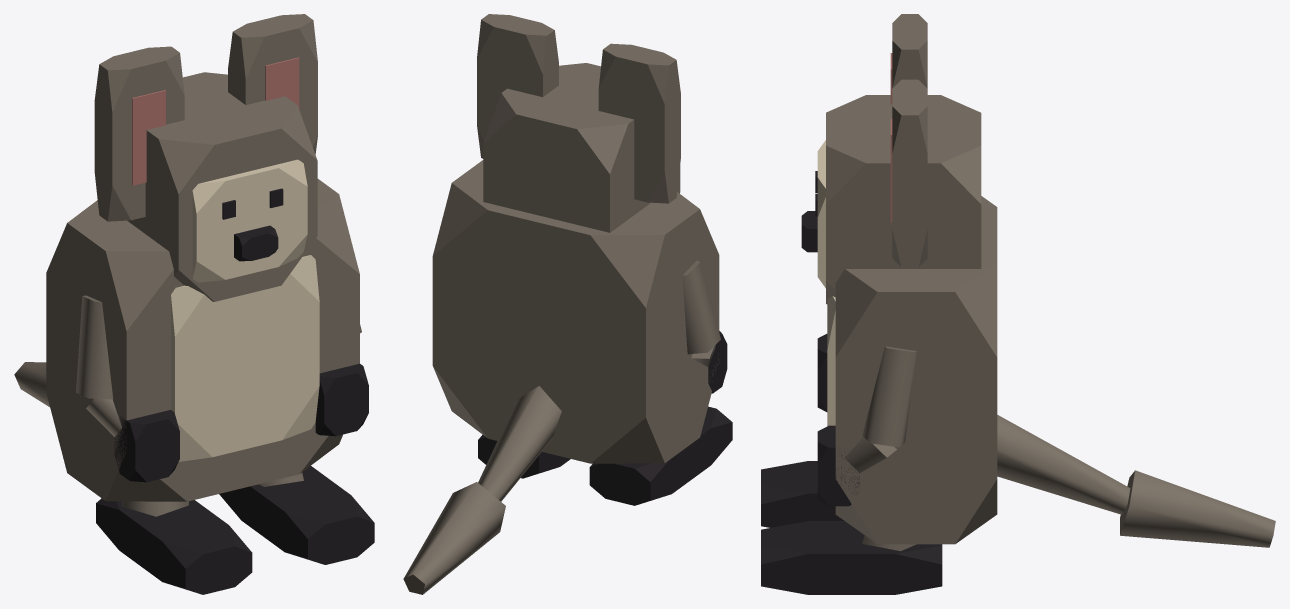
The model's file is original-wallaby.glb.
3 views of the same model, side by side, from view 1: azimuth 30°, elevation 25°; view 2: azimuth 150°, elevation 25°; view 3: azimuth 270°, elevation 25° (orthographic). The views are drawn at different scales.
Parts seen in each view (by area): view 1: wallaby; view 2: wallaby; view 3: wallaby.
Boxes of the visible parts, <box> form: wallaby: <box>14,14,374,594</box>; wallaby: <box>403,14,732,594</box>; wallaby: <box>761,14,1275,594</box>.
Bounding box in the file's own units: 0.9818 × 1.65 × 1.59.
